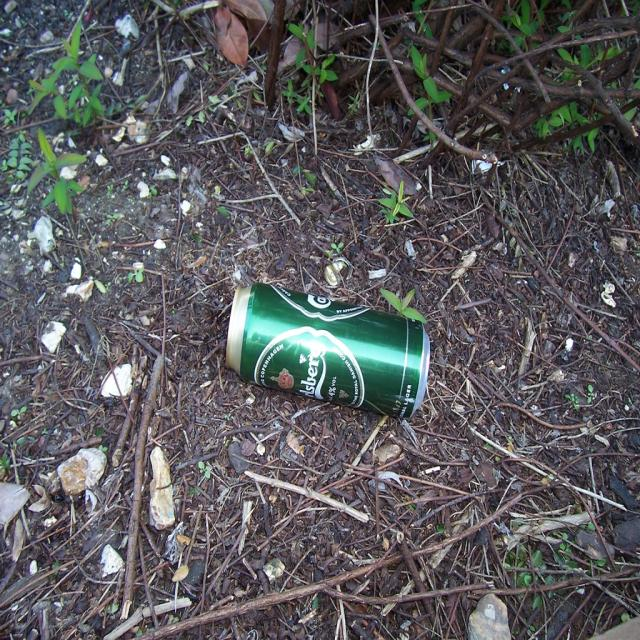carlsberg: (254, 326, 368, 411)
